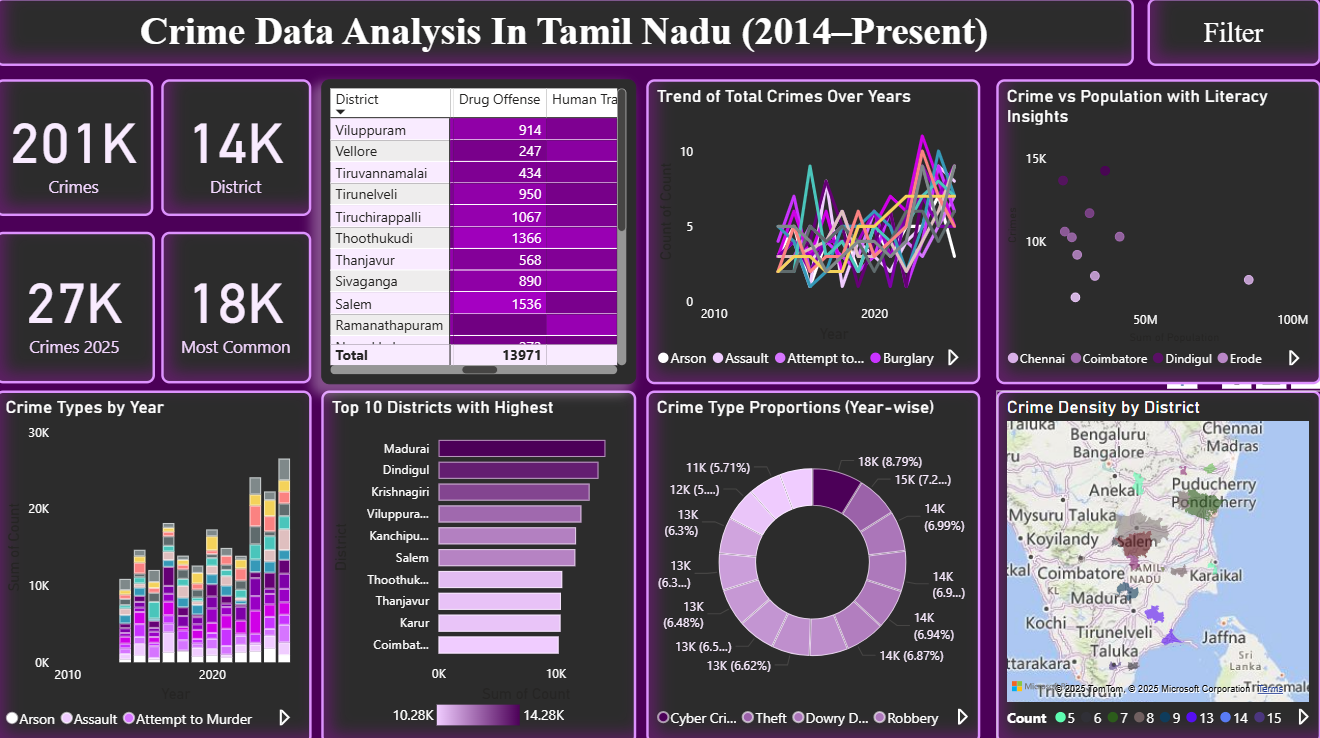

The dashboard page shown, as its layout file describes it:
{"tool":"powerbi","page":{"name":"Page 1","canvas":[1280,720],"ordinal":0},"visuals":[{"type":"lineChart","title":"Trend of Total Crimes Over Years","fields":{"Category":["TN_Crime_Stats_2014_2025_Sample.Year"],"Y":["CountNonNull(TN_Crime_Stats_2014_2025_Sample.Count)"],"Series":["TN_Crime_Stats_2014_2025_Sample.Crime Type"]},"box":[628.6,77.9,322.1,294.4],"z":0},{"type":"columnChart","title":"Crime Types by Year","fields":{"Category":["TN_Crime_Stats_2014_2025_Sample.Year"],"Series":["TN_Crime_Stats_2014_2025_Sample.Crime Type"],"Y":["Sum(TN_Crime_Stats_2014_2025_Sample.Count)"]},"box":[0,378.8,331.8,341.4],"z":1000},{"type":"filledMap","title":"Crime Density by District","fields":{"Category":["TN_Crime_Stats_2014_2025_Sample.District"],"Series":["TN_Crime_Stats_2014_2025_Sample.Count"]},"box":[966.3,379.2,313.4,341.1],"z":2000},{"type":"clusteredBarChart","title":"Top 10 Districts with Highest","fields":{"Y":["Sum(TN_Crime_Stats_2014_2025_Sample.Count)"],"Category":["TN_Crime_Stats_2014_2025_Sample.District"]},"box":[345,378.8,273.9,341.4],"z":3000},{"type":"donutChart","title":"Crime Type Proportions (Year-wise)","fields":{"Category":["TN_Crime_Stats_2014_2025_Sample.Crime Type"],"Y":["Sum(TN_Crime_Stats_2014_2025_Sample.Count)"]},"box":[628.6,379.2,322.1,341.1],"z":4000},{"type":"pivotTable","title":"Crime Type per District","fields":{"Rows":["TN_Crime_Stats_2014_2025_Sample.District"],"Columns":["TN_Crime_Stats_2014_2025_Sample.Crime Type"],"Values":["Sum(TN_Crime_Stats_2014_2025_Sample.Count)"]},"box":[351.1,78.4,267.8,294.4],"z":5000},{"type":"card","fields":{"Values":["TN_Crime_Stats_2014_2025_Sample.TotalCrimes"]},"box":[0,78.4,154,118.2],"z":6000},{"type":"card","fields":{"Values":["TN_Crime_Stats_2014_2025_Sample.MostCommonCrime"]},"box":[154.4,211.1,190.6,115.8],"z":7000},{"type":"card","fields":{"Values":["TN_Crime_Stats_2014_2025_Sample.DistrictWithMostCrimes"]},"box":[154.4,78.4,191,118.2],"z":8000},{"type":"card","fields":{"Values":["TN_Crime_Stats_2014_2025_Sample.TotalCrimes2025"]},"box":[0,211,155,116.3],"z":9000},{"type":"scatterChart","title":"Crime vs Population with Literacy Insights","fields":{"X":["Sum(TN_District_Demographics_2014_2025.Population)"],"Y":["TN_Crime_Stats_2014_2025_Sample.TotalCrimes"],"Series":["TN_District_Demographics_2014_2025.District"]},"box":[966.3,77.9,313.4,294.4],"z":10000},{"type":"textbox","title":" Crime Data Analysis In Tamil Nadu (2014–Present)","box":[0,0,1280,65.1],"z":11000},{"type":"image","box":[0,0,84.8,64.1],"z":13000},{"type":"image","box":[84.8,0,79.7,64.1],"z":14000}]}

Visuals, with their boxes in screenshot pixels (x1, y1, x2, y2), scaled from the page's 1280x720 canvas onto the 1320x738 screenshot:
"Trend of Total Crimes Over Years" lineChart: rect(648, 80, 980, 382)
"Crime Types by Year" columnChart: rect(0, 388, 342, 737)
"Crime Density by District" filledMap: rect(996, 389, 1319, 737)
"Top 10 Districts with Highest" clusteredBarChart: rect(356, 388, 638, 737)
"Crime Type Proportions (Year-wise)" donutChart: rect(648, 389, 980, 737)
"Crime Type per District" pivotTable: rect(362, 80, 638, 382)
card - TN_Crime_Stats_2014_2025_Sample.TotalCrimes: rect(0, 80, 159, 202)
card - TN_Crime_Stats_2014_2025_Sample.MostCommonCrime: rect(159, 216, 356, 335)
card - TN_Crime_Stats_2014_2025_Sample.DistrictWithMostCrimes: rect(159, 80, 356, 202)
card - TN_Crime_Stats_2014_2025_Sample.TotalCrimes2025: rect(0, 216, 160, 335)
"Crime vs Population with Literacy Insights" scatterChart: rect(996, 80, 1319, 382)
" Crime Data Analysis In Tamil Nadu (2014–Present)" textbox: rect(0, 0, 1319, 67)
image: rect(0, 0, 87, 66)
image: rect(87, 0, 170, 66)
